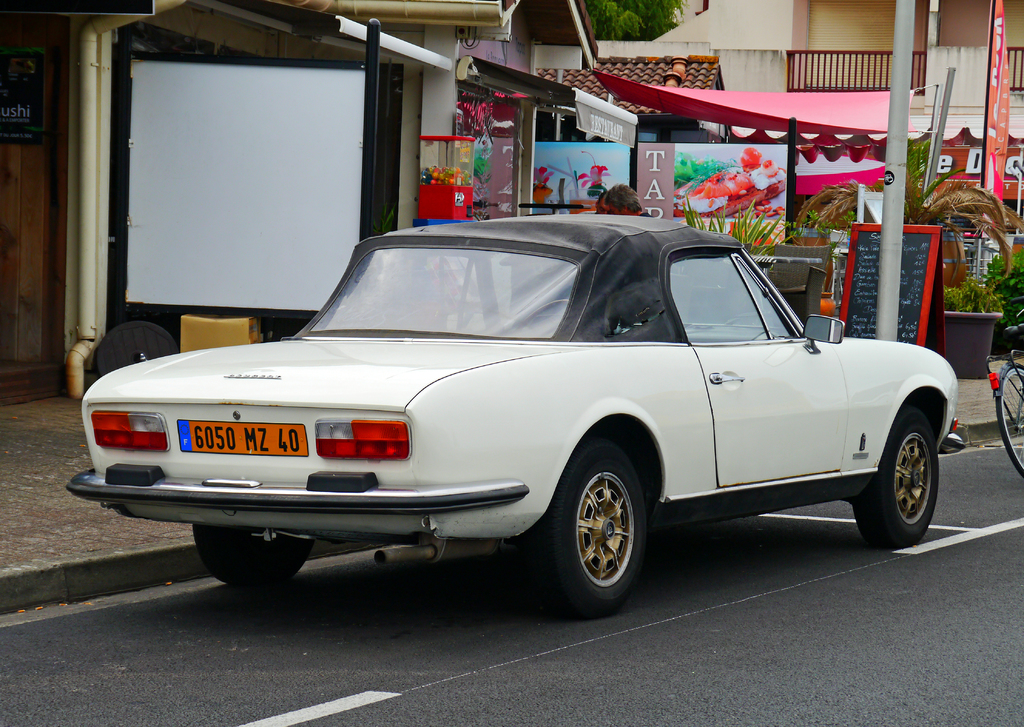Car: (62, 213, 963, 619)
